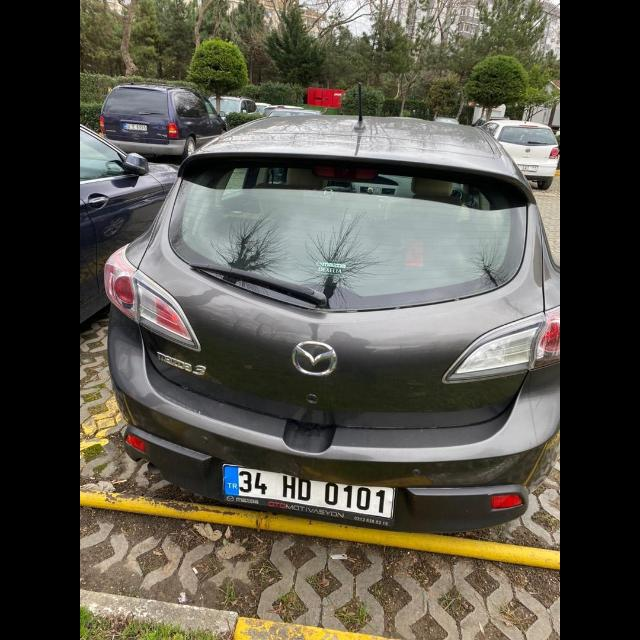Plaka: (222, 466, 396, 518)
